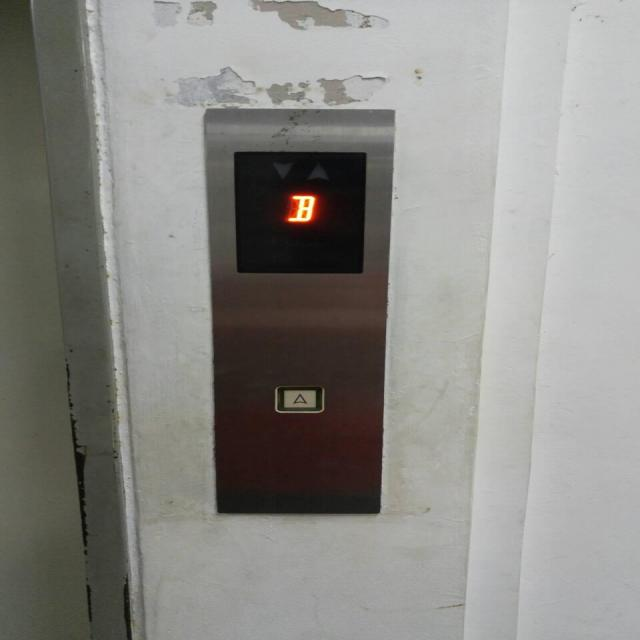led: (225, 146, 376, 280)
up: (275, 385, 327, 413)
